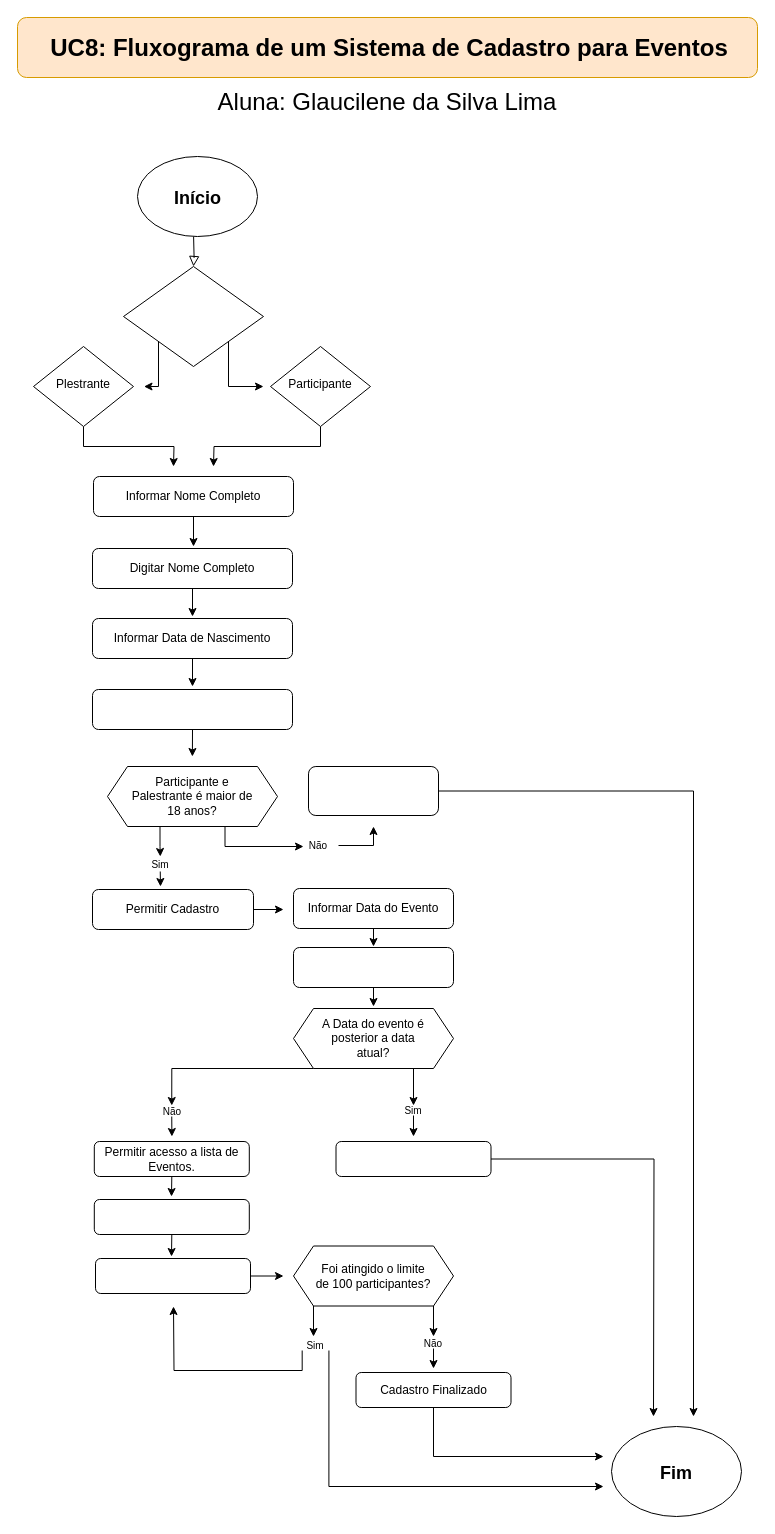
Image size: 775x1534. Some labels were removed from this diagram. Each missing label, with the box of its shape:
Digitar Data de Nascimento: (92, 688, 292, 730)
Digitar Data do Evento: (292, 946, 454, 988)
Escolha do Evento desejado: (94, 1258, 250, 1294)
Idade não permitida (Evento para Maiores de 18 anos): (308, 766, 438, 816)
Informar que a data é inválida: (335, 1140, 491, 1176)
Informar se é participante ou palestrante: (122, 266, 264, 366)
Lista de Eventos Disponíveis: (93, 1198, 249, 1234)
